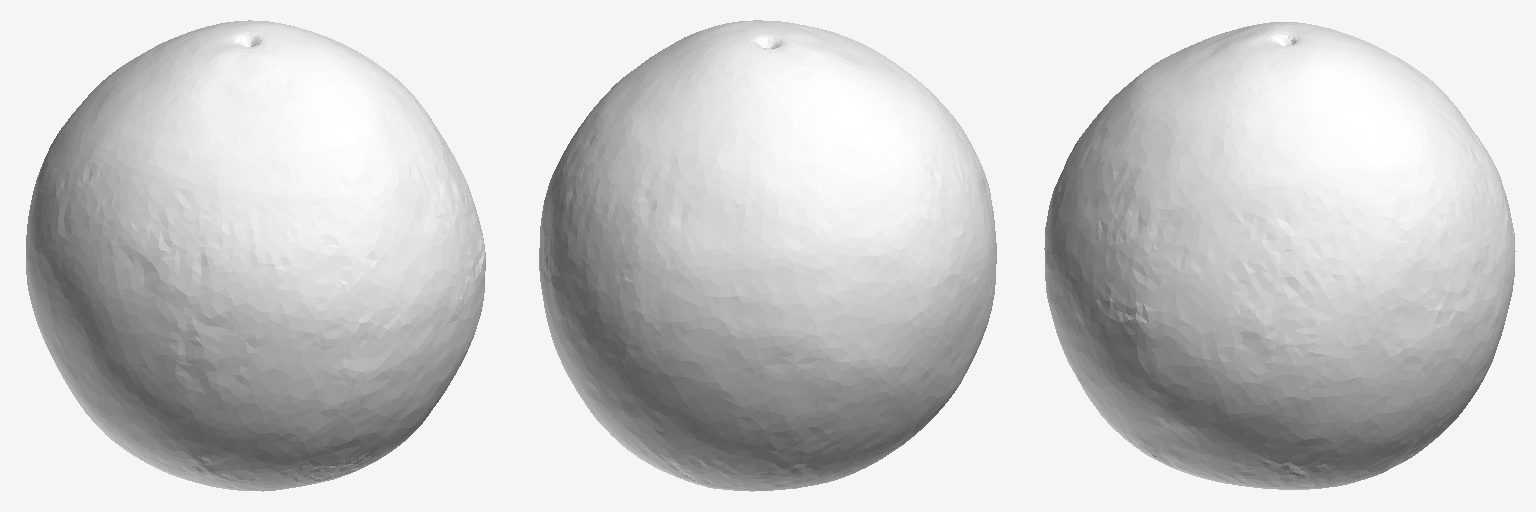
robot.urdf — 017_orange:
<?xml version='1.0' encoding='ASCII'?>
<robot name="017_orange">
    <link name="object_017_orange_base_link">
        <visual>
            <origin rpy="0 0 0" xyz="0 0 0"/>
            <geometry>
                <mesh filename="textured_simple.obj" scale="1.0 1.0 1.0"/>
            </geometry>
            <material name="texture">
                <color rgba="1.0 1.0 1.0 1.0" />
            </material>
        </visual>
        <collision>
            <origin rpy="0 0 0" xyz="0 0 0"/>
            <geometry>
                <mesh filename="textured_simple.obj" scale="1.0 1.0 1.0"/>
            </geometry>
        </collision>   
        <inertial>
            <mass value="0.047"/>
            <inertia ixx='1.0929448739337456e-07' ixy='-3.7680162105317293e-10' ixz='7.754849787300674e-10' iyy='1.0668012119156086e-07' iyz='-3.2224600252856557e-10' izz='1.0766814786501892e-07' />
        </inertial>
    </link>
</robot>

--- Facts derived from the render (not from the file) ---
Views: 3 orthographic renders of the robot side by side, from view 1: azimuth 30°, elevation 25°; view 2: azimuth 150°, elevation 25°; view 3: azimuth 270°, elevation 25°.
Robot: 017_orange — 1 links, 0 joints (none); root link object_017_orange_base_link; default pose: all joints at 0.
Links seen in each view (by area): view 1: object_017_orange_base_link; view 2: object_017_orange_base_link; view 3: object_017_orange_base_link.
Link boxes in pixels (bbox=[...]): object_017_orange_base_link: bbox=[26, 20, 485, 491]; object_017_orange_base_link: bbox=[539, 20, 996, 491]; object_017_orange_base_link: bbox=[1044, 22, 1515, 489].
Bounding box of the posed robot: 0.0722 × 0.074 × 0.0714 m (x, y, z).
Meshes: 1 distinct files referenced, 1 mesh visuals loaded (1 OBJ).
